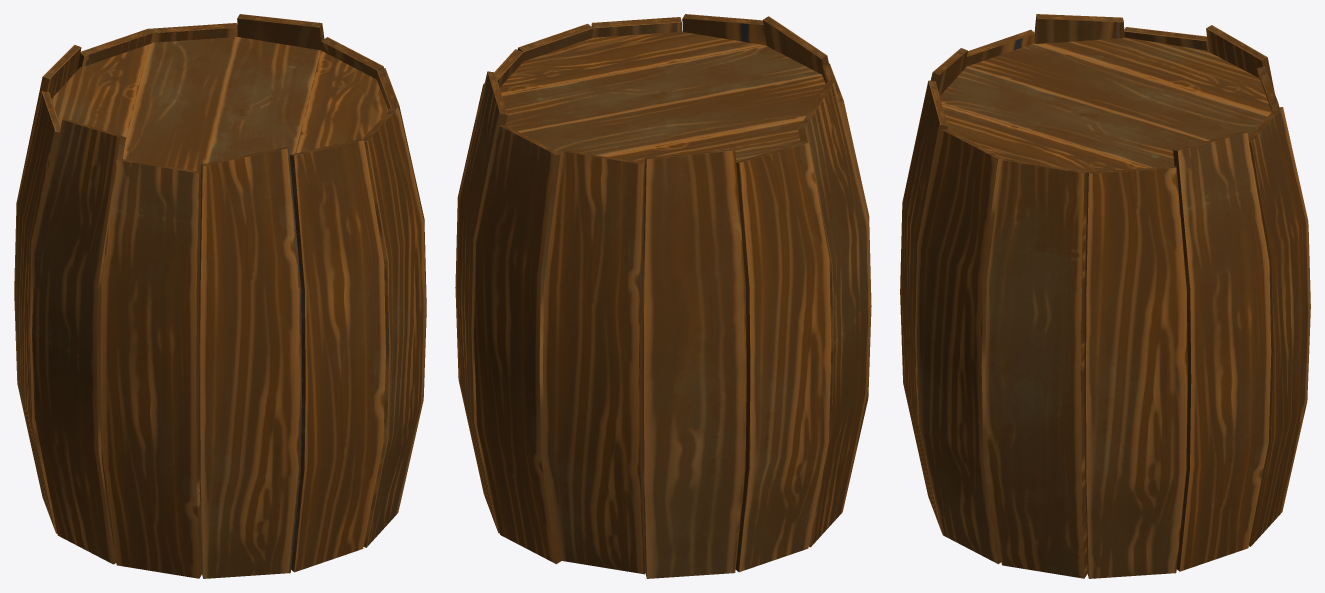
3 views of the same model, side by side, from view 1: azimuth 30°, elevation 25°; view 2: azimuth 150°, elevation 25°; view 3: azimuth 270°, elevation 25° (orthographic).
Visible parts, largest first — view 1: Cylinder.117; view 2: Cylinder.117; view 3: Cylinder.117.
Part boxes in pixels (bbox=[...]): Cylinder.117: bbox=[14, 14, 426, 578]; Cylinder.117: bbox=[455, 14, 871, 578]; Cylinder.117: bbox=[900, 14, 1310, 578].
Size of the model in its own units: 133 by 151 by 132.
1 material, 1 textured.
